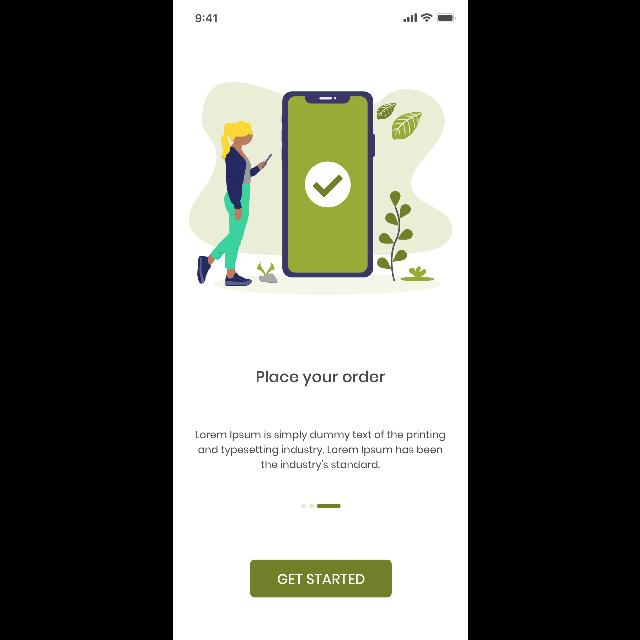image: (188, 82, 452, 296)
pageindicator: (300, 504, 340, 508)
text: (196, 431, 444, 472), (256, 370, 384, 386)
textbutton: (249, 560, 391, 598)
uppertaskbar: (194, 14, 456, 22)
